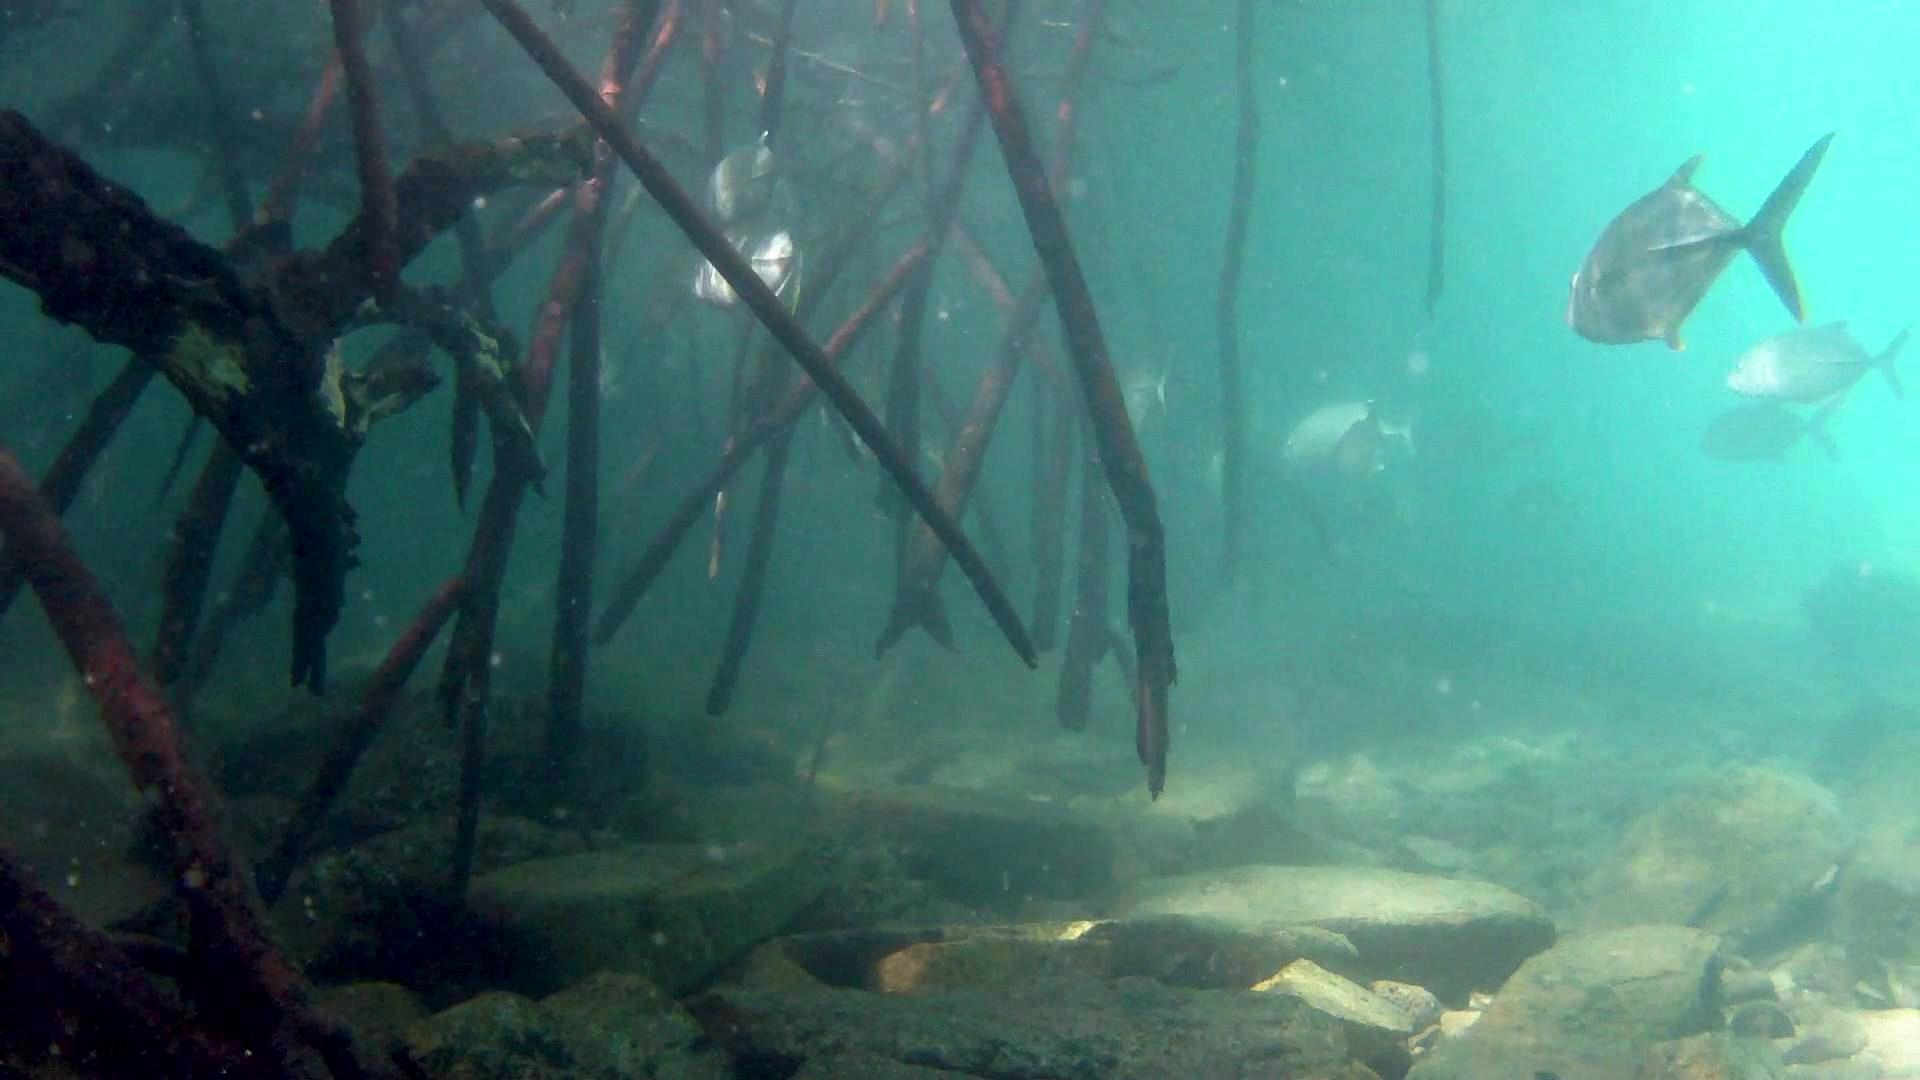caranx: (1559, 125, 1841, 355)
